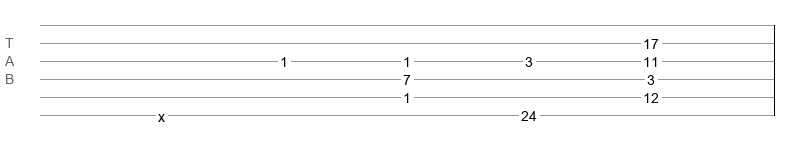1: (280, 54, 288, 64), (403, 54, 411, 64), (403, 90, 411, 100)
11: (643, 54, 659, 64)
12: (643, 90, 659, 100)
17: (643, 36, 659, 46)
24: (521, 108, 537, 118)
3: (525, 54, 533, 64), (647, 72, 655, 82)
7: (403, 72, 411, 82)
x: (158, 109, 165, 117)
